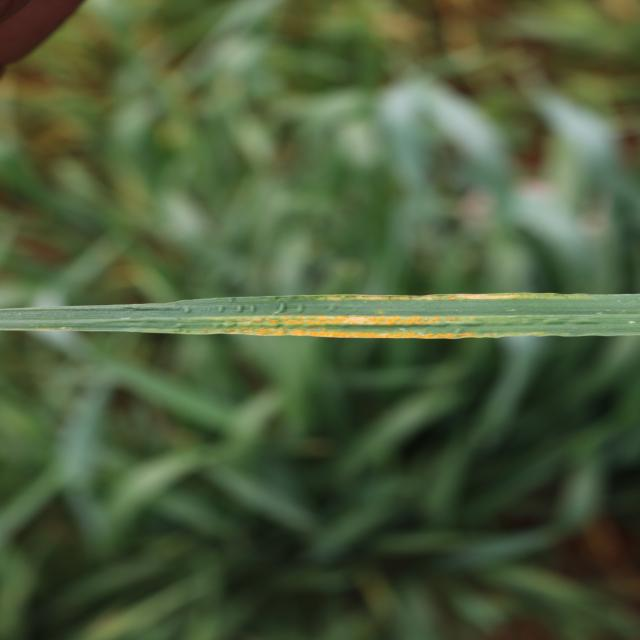Stripe Rust: (226, 314, 468, 338), (312, 293, 520, 303)
